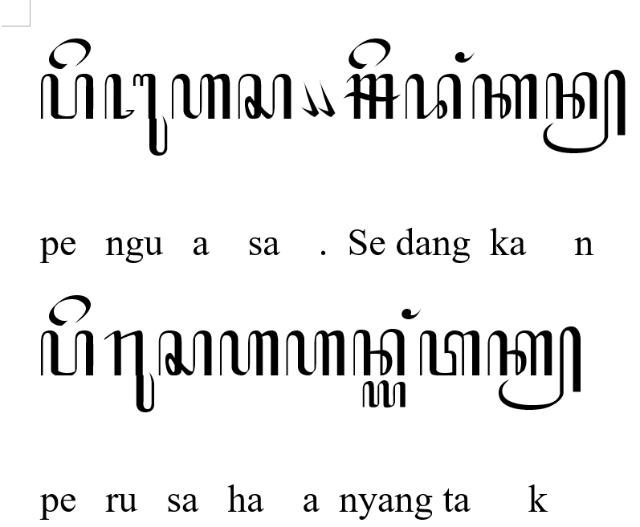-k: (486, 326, 582, 412)
-n: (542, 69, 626, 154)
S: (343, 72, 401, 120)
d: (405, 74, 463, 120)
e: (348, 36, 392, 70), (49, 38, 91, 70), (49, 296, 91, 326)
h: (170, 72, 232, 120), (286, 330, 346, 378), (220, 331, 278, 378)
k: (472, 73, 538, 119)
kom: (317, 78, 335, 118), (301, 80, 319, 118)
n: (353, 329, 405, 377)
ng: (400, 308, 422, 320), (455, 50, 475, 63)
ngu: (105, 72, 168, 156)
p: (41, 74, 95, 120), (40, 330, 94, 376)
ru: (103, 331, 155, 414)
s: (237, 72, 293, 121), (158, 329, 212, 377)
t: (418, 331, 479, 377)
y: (362, 380, 406, 409)
